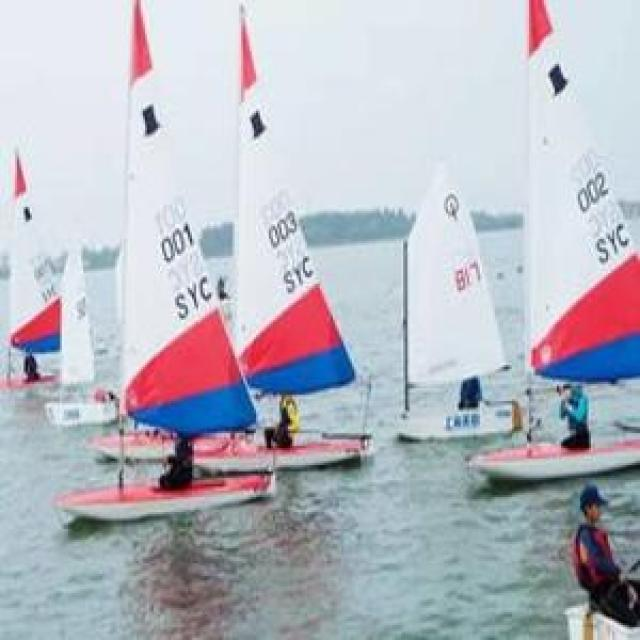sailboat: (57, 0, 284, 516), (191, 0, 382, 467), (463, 0, 640, 480), (395, 146, 519, 441), (3, 139, 66, 398), (48, 218, 118, 425)
